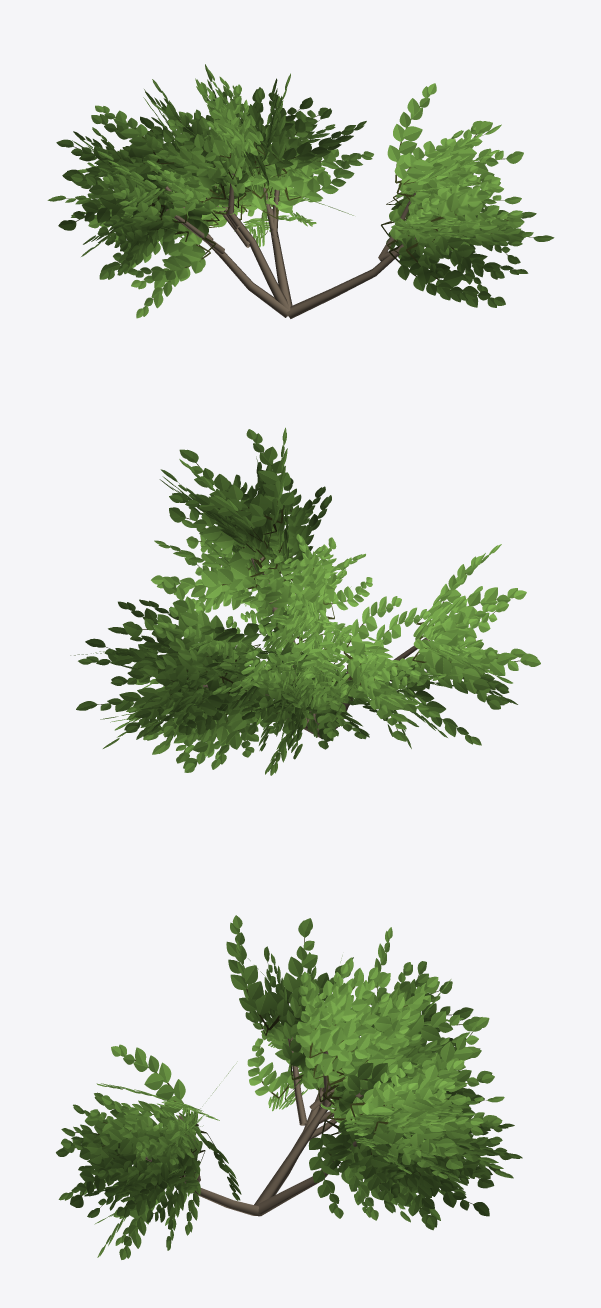
File: bush_3.glb
3 renders of one model, top to bottom at view 1: azimuth 30°, elevation 25°; view 2: azimuth 150°, elevation 25°; view 3: azimuth 270°, elevation 25°, orthographic. The views are drawn at different scales.
Parts seen in each view (by area): view 1: bush_3; view 2: bush_3; view 3: bush_3.
Part boxes in pixels (left/top/right/bottom): bush_3: left=47, top=64, right=554, bottom=318; bush_3: left=70, top=427, right=540, bottom=775; bush_3: left=56, top=915, right=522, bottom=1259.
Size of the model in its own units: 3.03 by 1.63 by 3.02.
2 materials, 1 textured.
